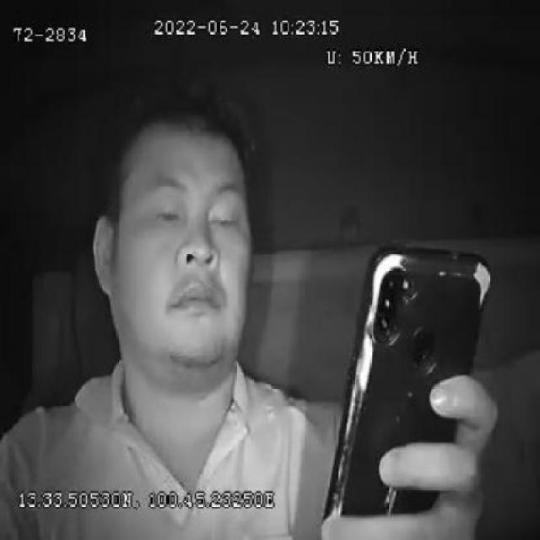phone: (323, 239, 495, 540)
